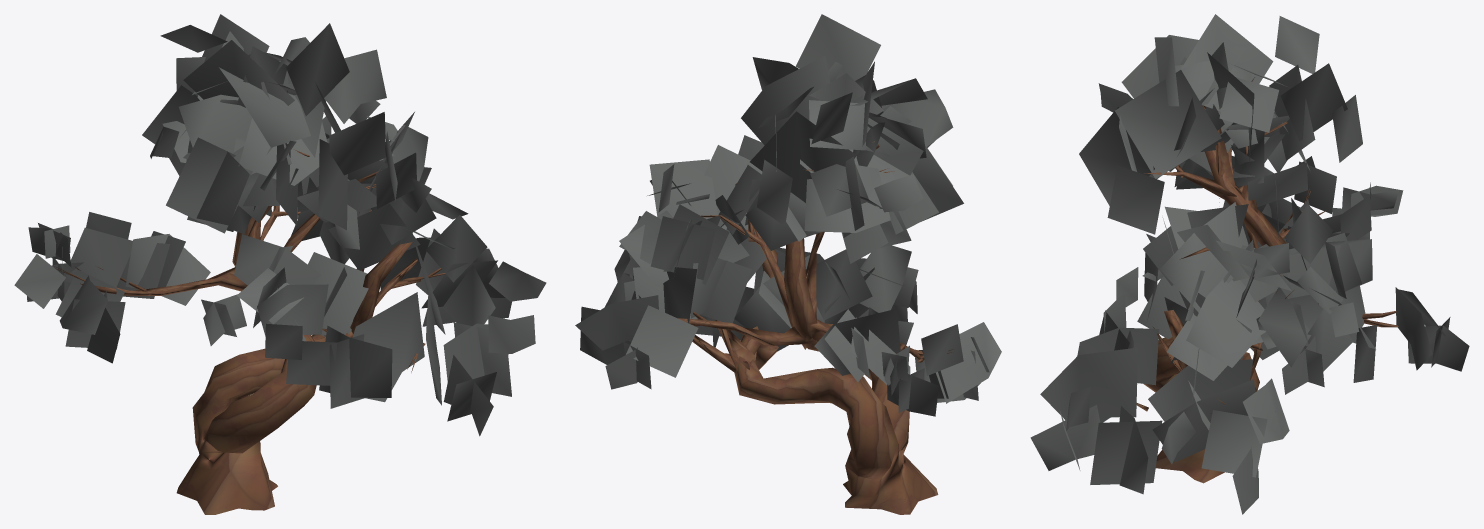
The model's file is SM_Tree_02.fbx.
3 views of the same model, side by side, from view 1: azimuth 30°, elevation 25°; view 2: azimuth 150°, elevation 25°; view 3: azimuth 270°, elevation 25° (orthographic). The views are drawn at different scales.
Parts seen in each view (by area): view 1: SM_Tree_02; view 2: SM_Tree_02; view 3: SM_Tree_02.
Boxes of the visible parts, <box> form: SM_Tree_02: <box>14,14,546,514</box>; SM_Tree_02: <box>575,14,1001,514</box>; SM_Tree_02: <box>1030,14,1469,514</box>.
Size of the model in its own units: 1028 by 991 by 850.
